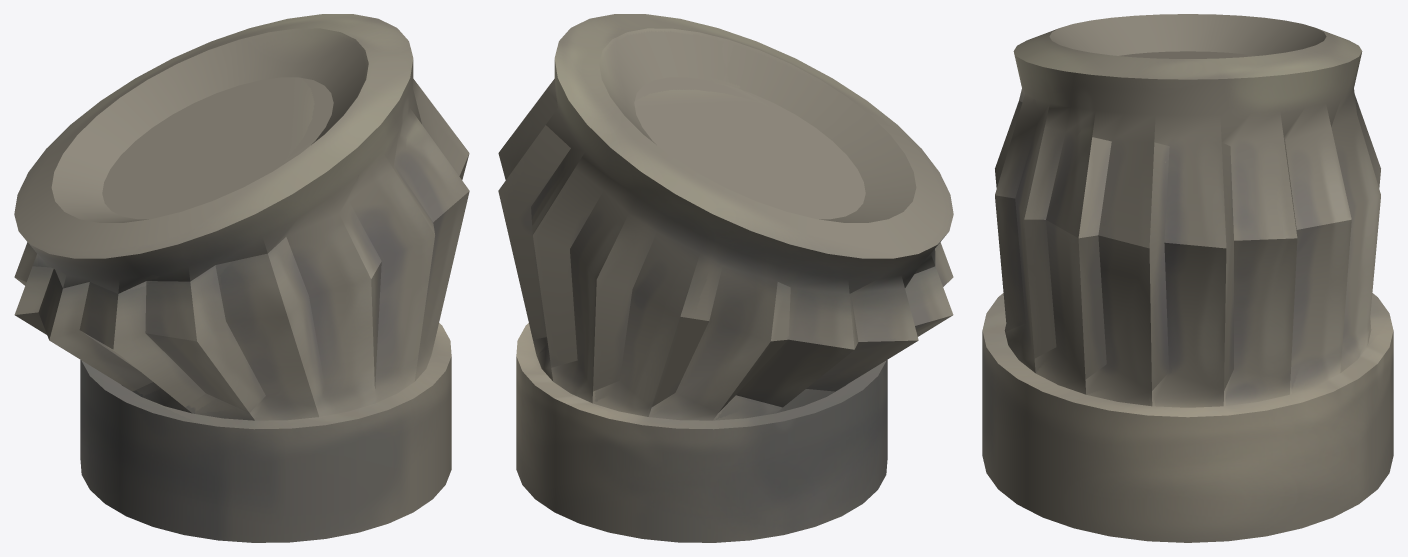
File: ChiefHat0.fbx
The picture shows the model from 3 angles, left to right: view 1: azimuth 30°, elevation 25°; view 2: azimuth 150°, elevation 25°; view 3: azimuth 270°, elevation 25°; orthographic projection. The views are drawn at different scales.
Parts seen in each view (by area): view 1: Hat0; view 2: Hat0; view 3: Hat0.
Boxes of the visible parts, x1=… form: Hat0: x1=14, y1=14, x2=469, y2=542; Hat0: x1=498, y1=14, x2=953, y2=542; Hat0: x1=982, y1=14, x2=1393, y2=542.
Bounding box in the file's own units: 51.11 × 46.87 × 39.05.
1 material, 1 textured.
